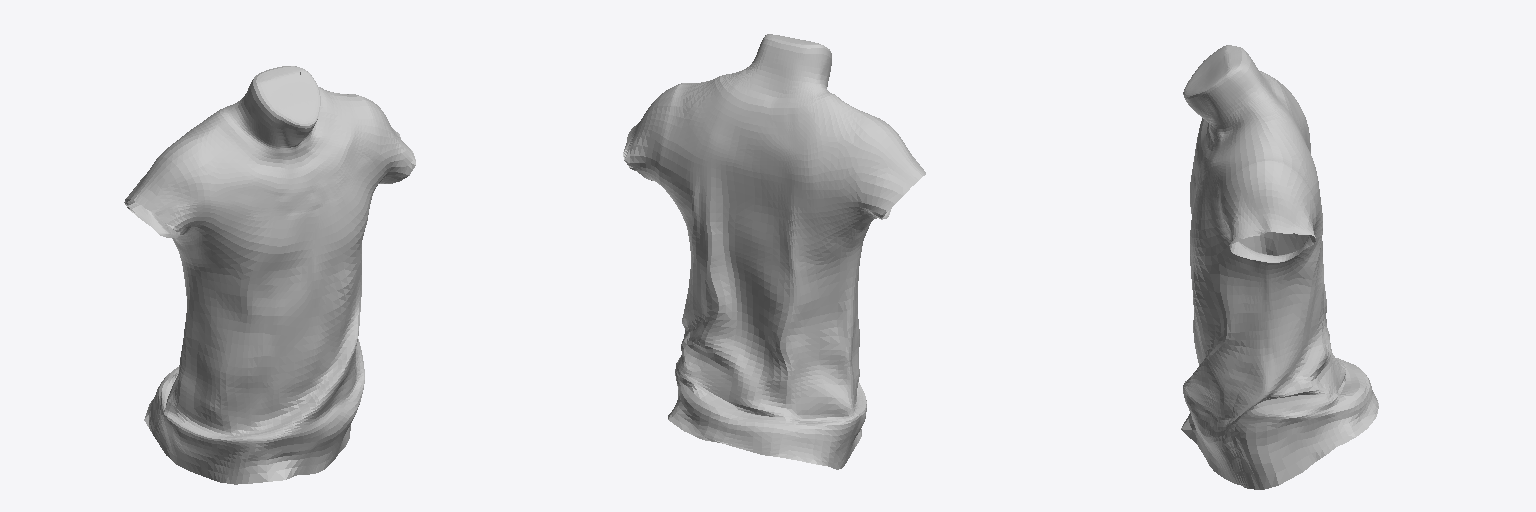
The picture shows the model from 3 angles: view 1: azimuth 30°, elevation 25°; view 2: azimuth 150°, elevation 25°; view 3: azimuth 270°, elevation 25°; orthographic projection.
Visible parts, largest first — view 1: Mesh1 T_shirt_Template_High_Poly1 Model; view 2: Mesh1 T_shirt_Template_High_Poly1 Model; view 3: Mesh1 T_shirt_Template_High_Poly1 Model.
Boxes of the visible parts, x1=… form: Mesh1 T_shirt_Template_High_Poly1 Model: x1=124, y1=66, x2=415, y2=484; Mesh1 T_shirt_Template_High_Poly1 Model: x1=623, y1=34, x2=925, y2=469; Mesh1 T_shirt_Template_High_Poly1 Model: x1=1181, y1=45, x2=1378, y2=489.
Size of the model in its own units: 11941 by 16490 by 7398.